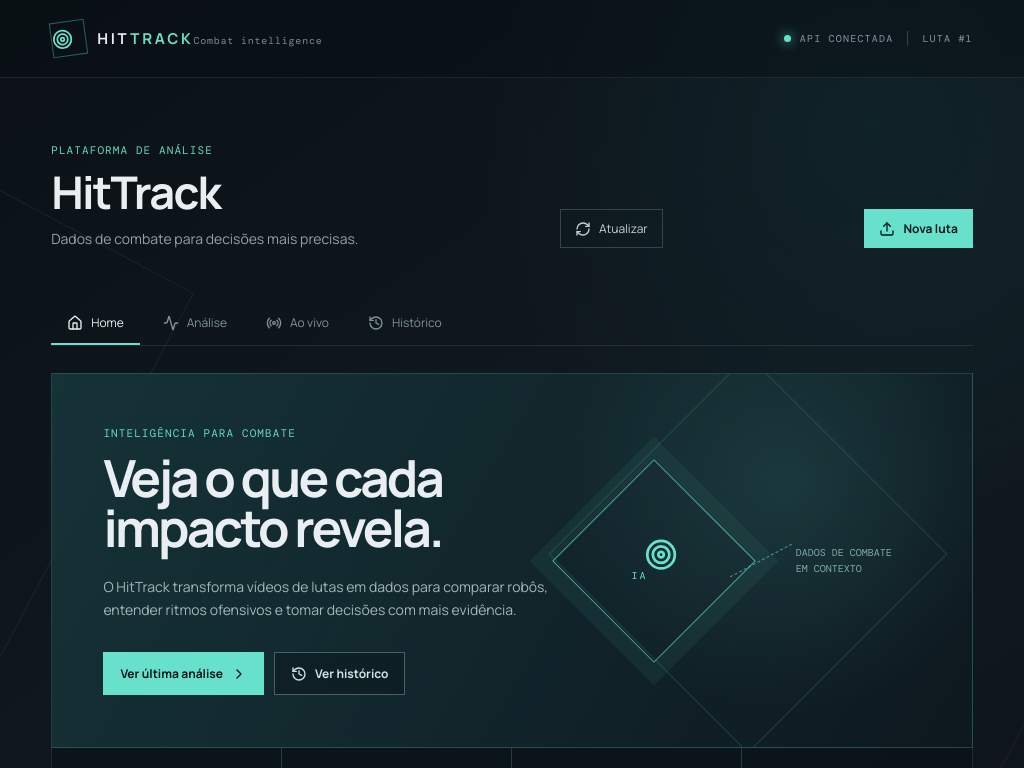
Scenario: HitTrack dashboard › clears the stored fight id when the selected fight no longer exists
Click the button "Análise": (195, 324) [147, 302, 243, 345]
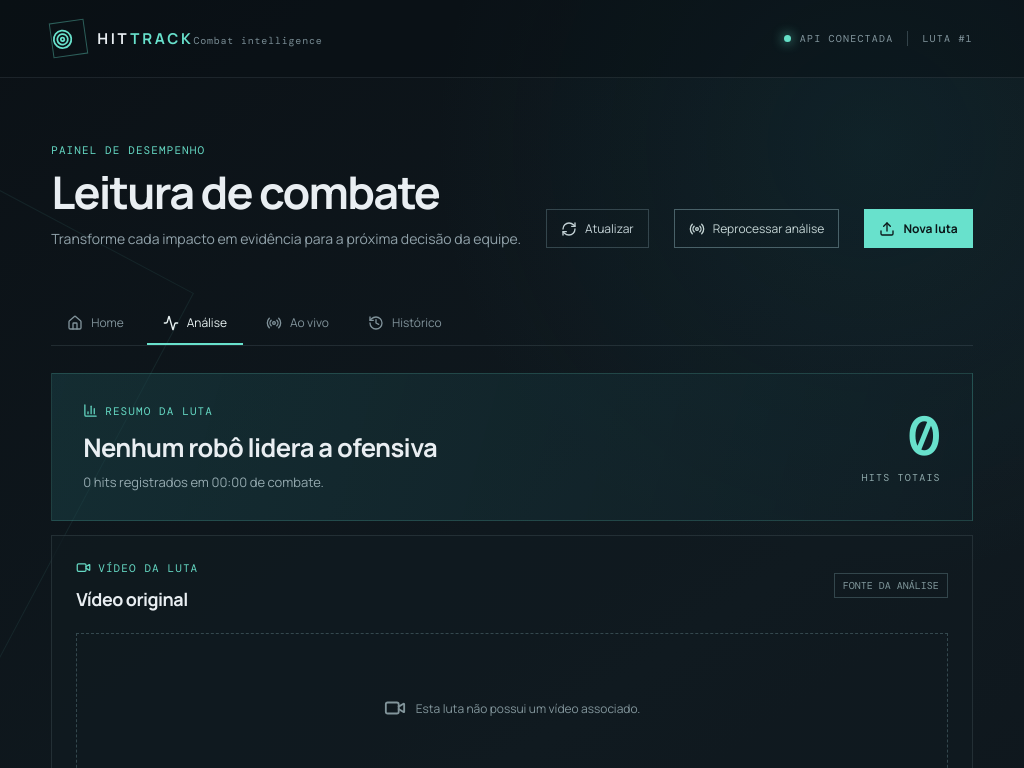
Now the heading "Nenhum robô lidera a ofensiva" is shown, box [83, 430, 437, 465]
